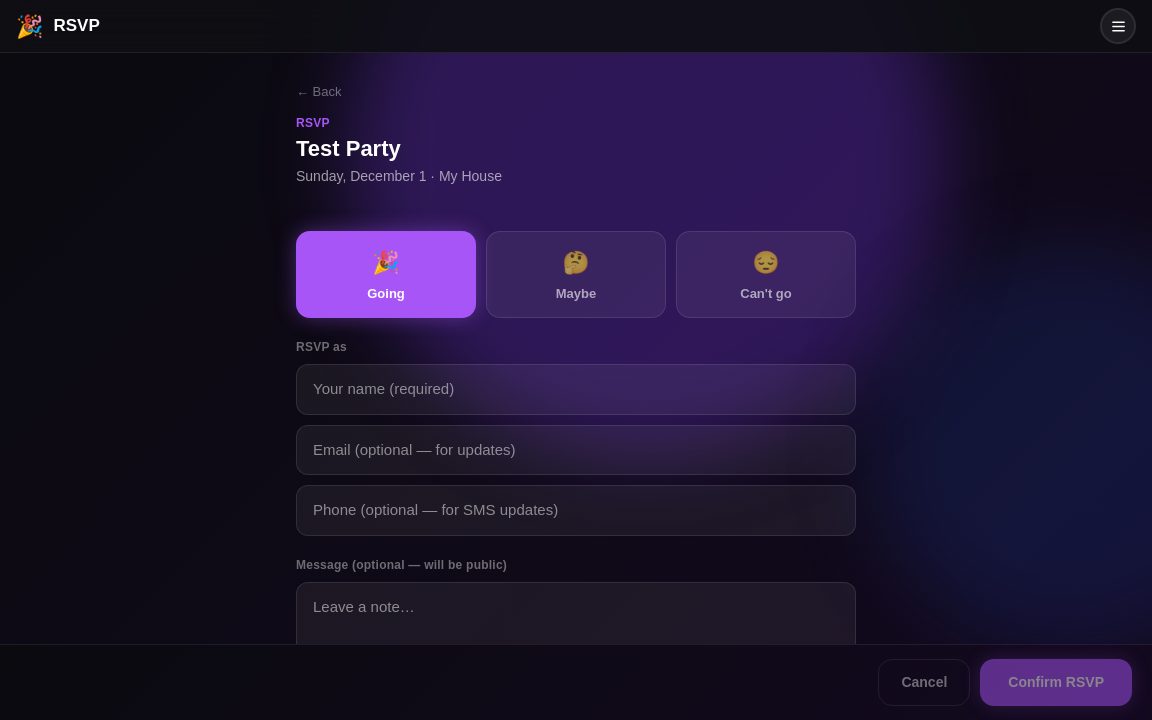
Test: RsvpFlow — new RSVP › shows confirmation screen after successful RSVP submission
Step 1. Type "Alice" into the field with placeholder "Your name (required)" → (576, 390), box [296,364,856,415]
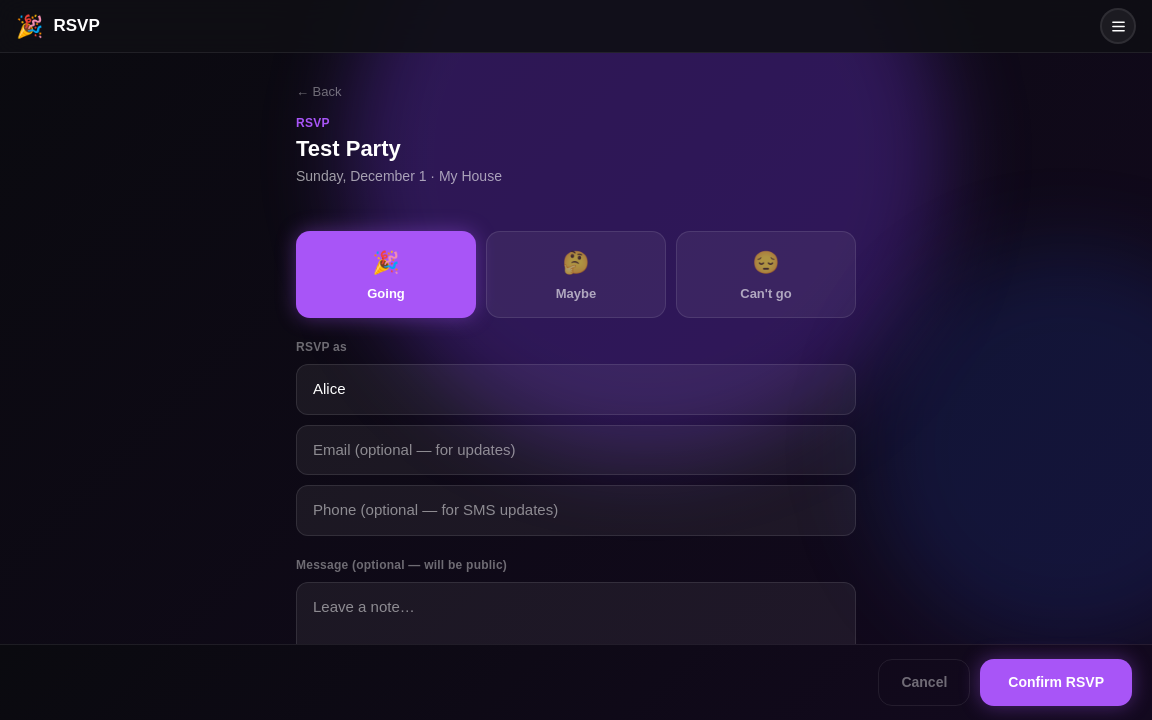
Step 2. Click the button "Confirm RSVP" → (1056, 682), box [980,659,1132,706]
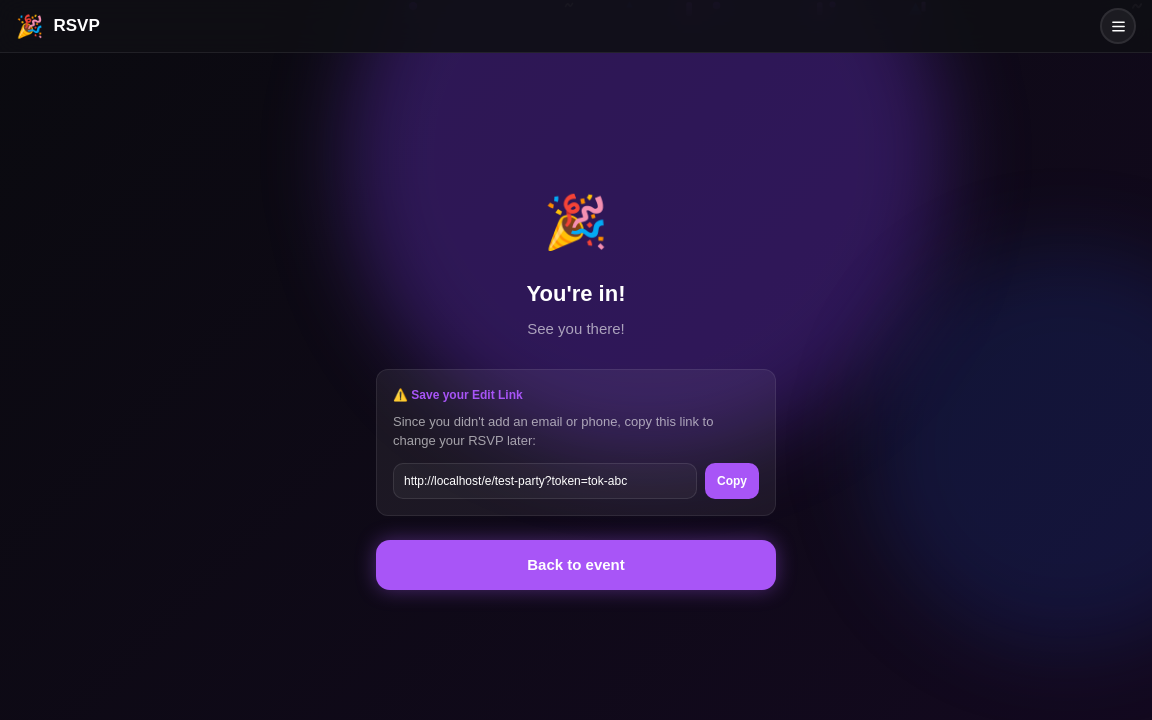
Now the heading "You're in!" is shown, box [526,281,625,306]
